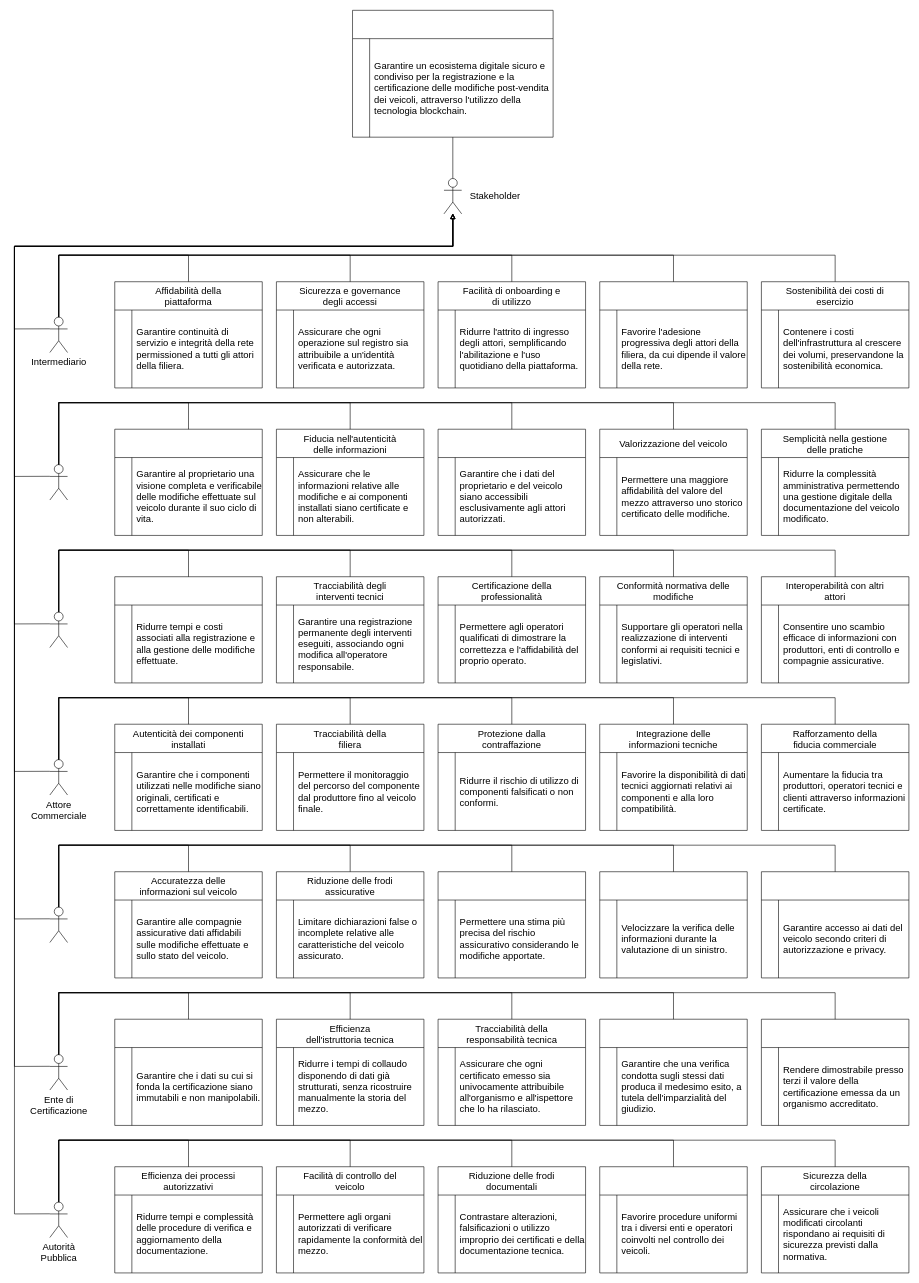
The diagram is 919 pixels wide and 1283 high, and some of its shapes have lost their labels. Here are the shapes that lost their labels. From the top down, the box of each, then its label:
(352, 10, 553, 137): Certificazione digitale affidabile delle modifiche ai veicoli
(599, 281, 747, 388): Adozione della piattaforma
(49, 464, 68, 500): Utente Finale
(114, 429, 262, 535): Trasparenza dello storico del veicolo
(437, 429, 586, 535): Protezione dei dati personali
(49, 612, 68, 648): Operatore Tecnico
(114, 576, 262, 683): Efficienza nella gestione degli interventi
(49, 907, 68, 943): Attore Assicurativo
(437, 871, 586, 978): Valutazione corretta del rischio
(599, 871, 747, 978): Efficienza nella gestione dei sinistri
(761, 871, 909, 978): Condivisione sicura delle informazioni assicurative
(114, 1019, 262, 1125): Integrità delle informazioni certificate
(599, 1019, 747, 1125): Ripetibilità della verifica
(761, 1019, 909, 1125): Riconoscibilità dell'accreditamento
(599, 1166, 747, 1273): Standardizzazione dei processi
